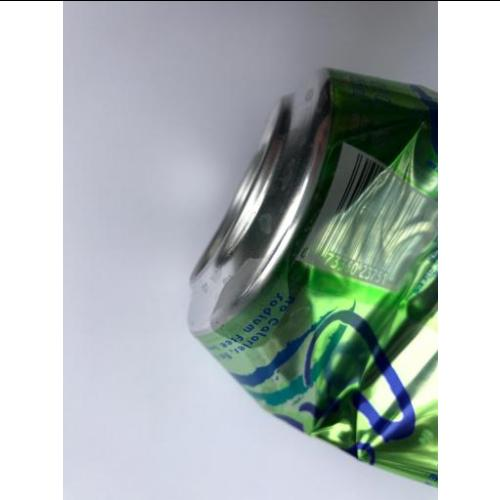metal: (184, 70, 437, 453)
